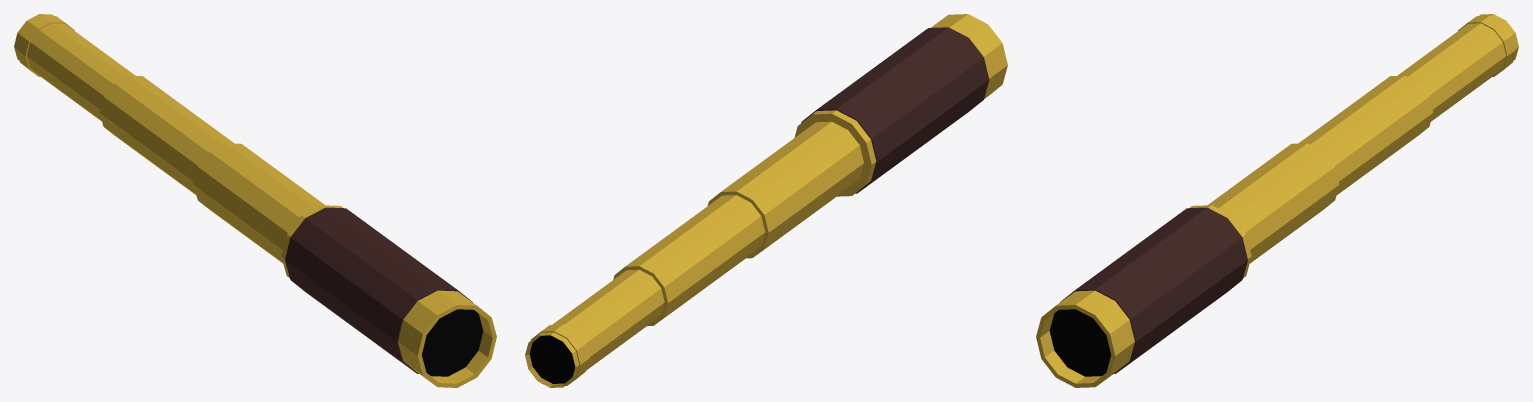
The model's file is Spyglass.fbx.
3 renders of one model, left to right at view 1: azimuth 30°, elevation 25°; view 2: azimuth 150°, elevation 25°; view 3: azimuth 330°, elevation 25°, orthographic.
Visible parts, largest first — view 1: Spyglass; view 2: Spyglass; view 3: Spyglass.
Boxes of the visible parts, x1,y1,x2,y2 form: Spyglass: (14, 14, 496, 387); Spyglass: (525, 14, 1007, 387); Spyglass: (1036, 14, 1518, 387).
Bounding box in the file's own units: 50.34 × 50.34 × 447.
